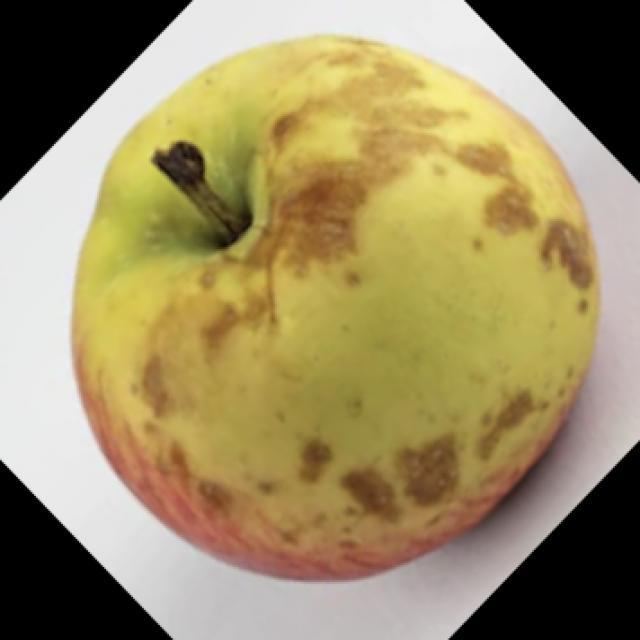Rotten: (88, 52, 572, 578)
